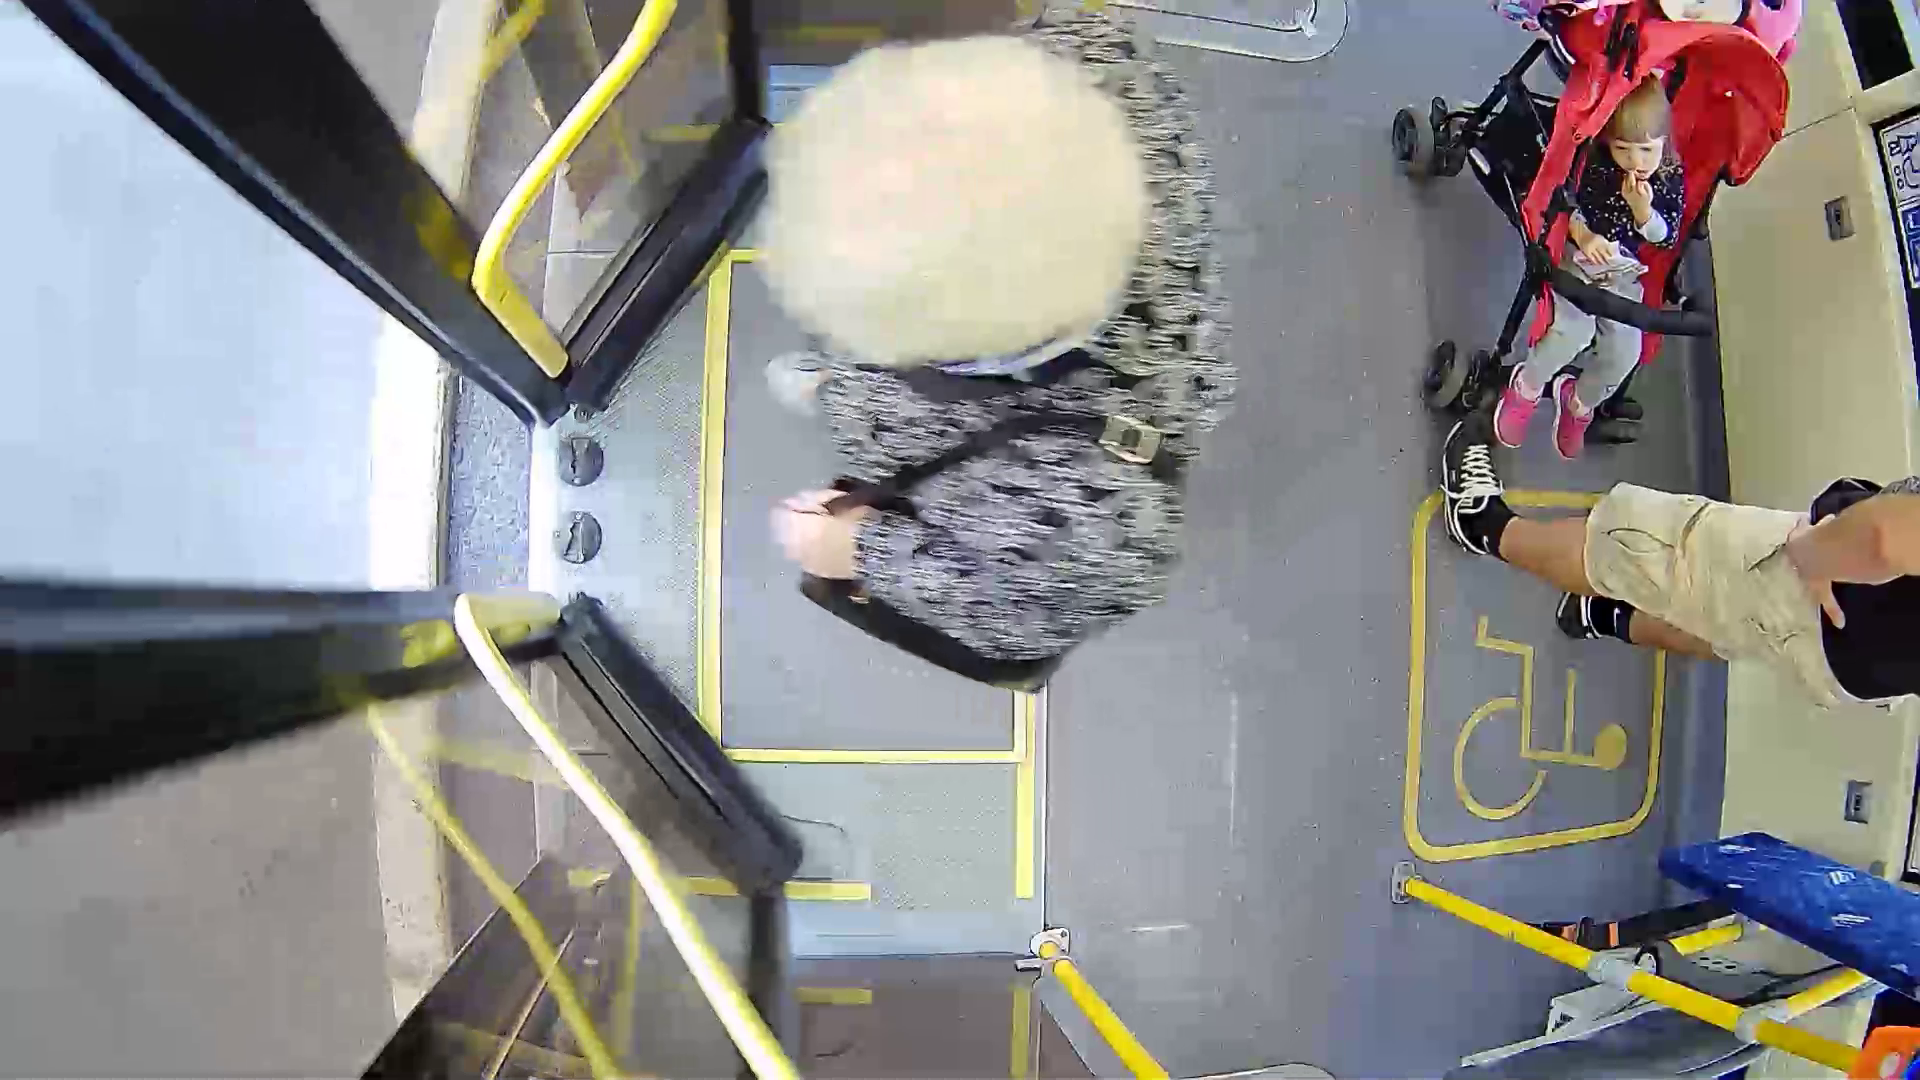person: (628, 45, 1300, 727)
